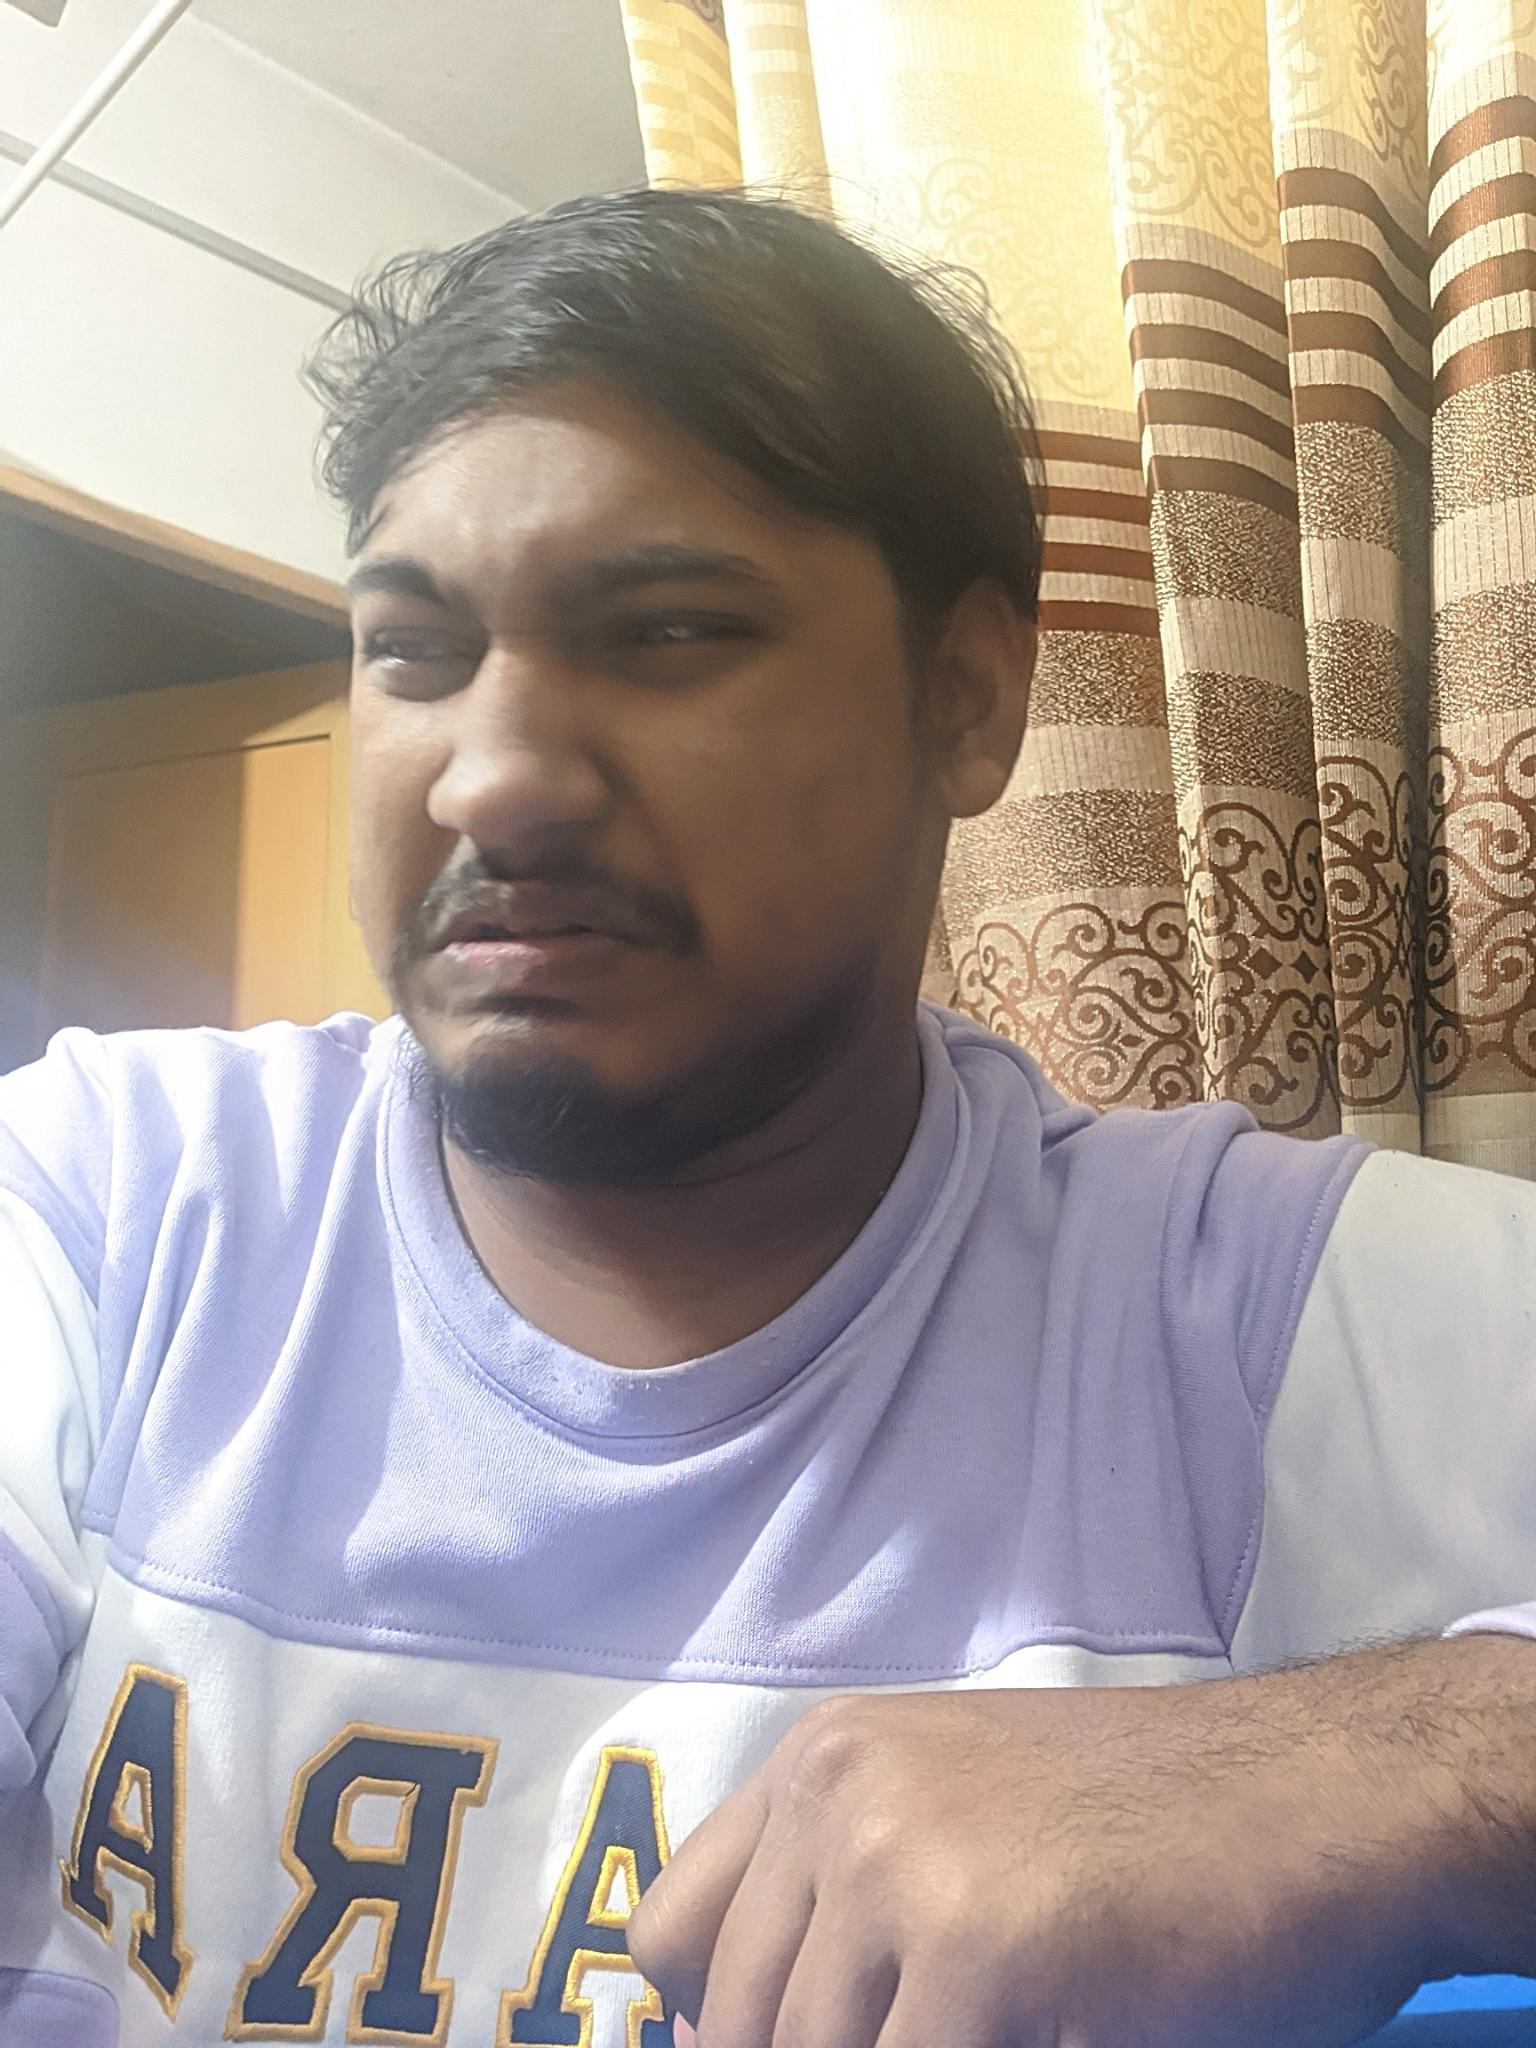Disgust: (313, 437, 868, 1166)
